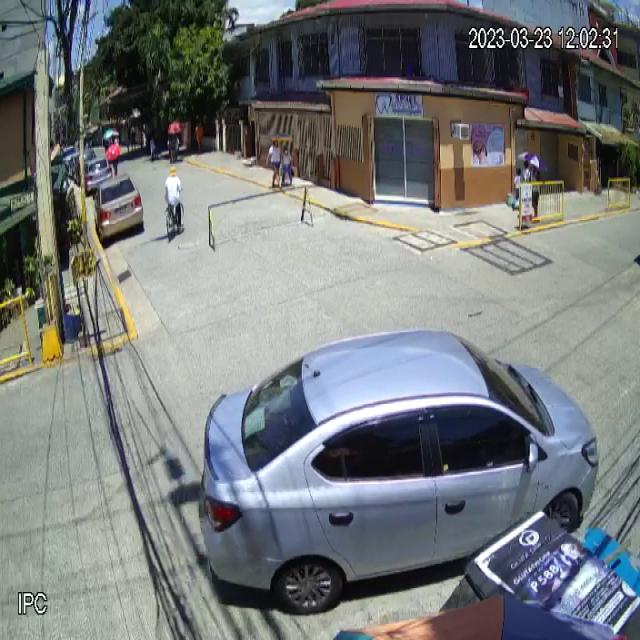Car: (201, 328, 601, 617)
